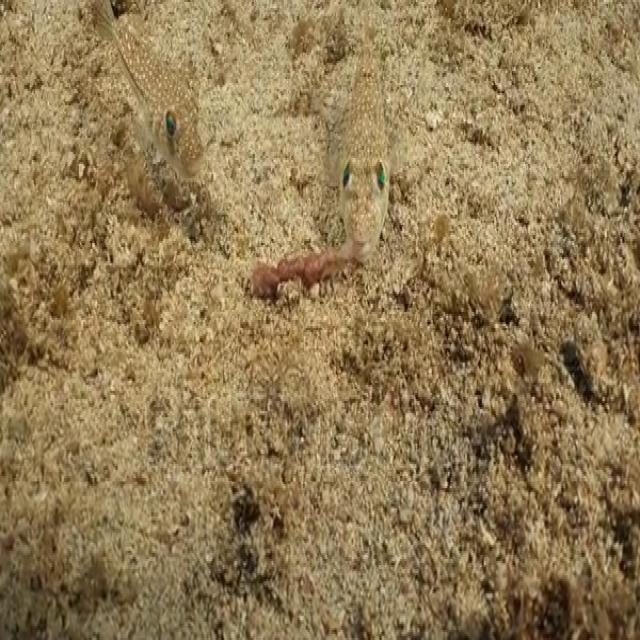Balon Baligi: (104, 0, 220, 186), (340, 0, 388, 268)
